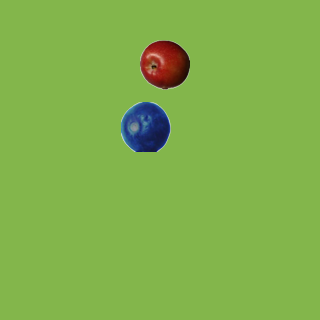Apple Braeburn: (139, 39, 189, 89)
Huckleberry: (120, 101, 170, 151)
